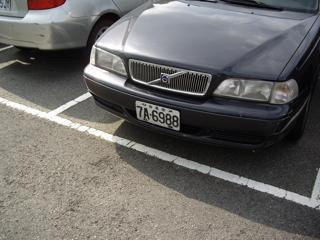plate: (134, 100, 179, 132)
